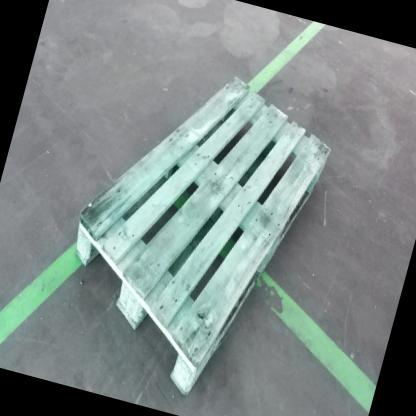BoxFace: (75, 73, 333, 408)
